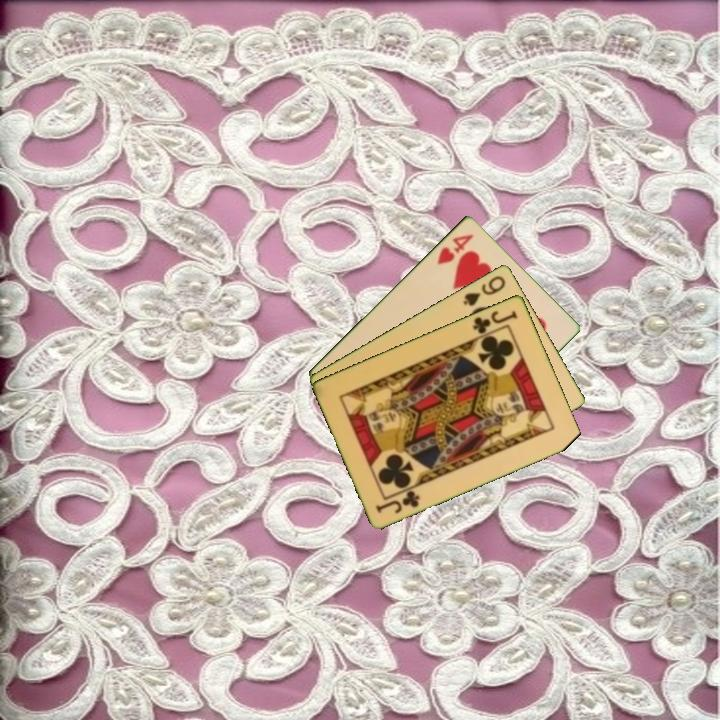4h: (434, 230, 477, 267)
9s: (459, 271, 509, 309)
Jc: (469, 307, 520, 337), (373, 486, 423, 516)
